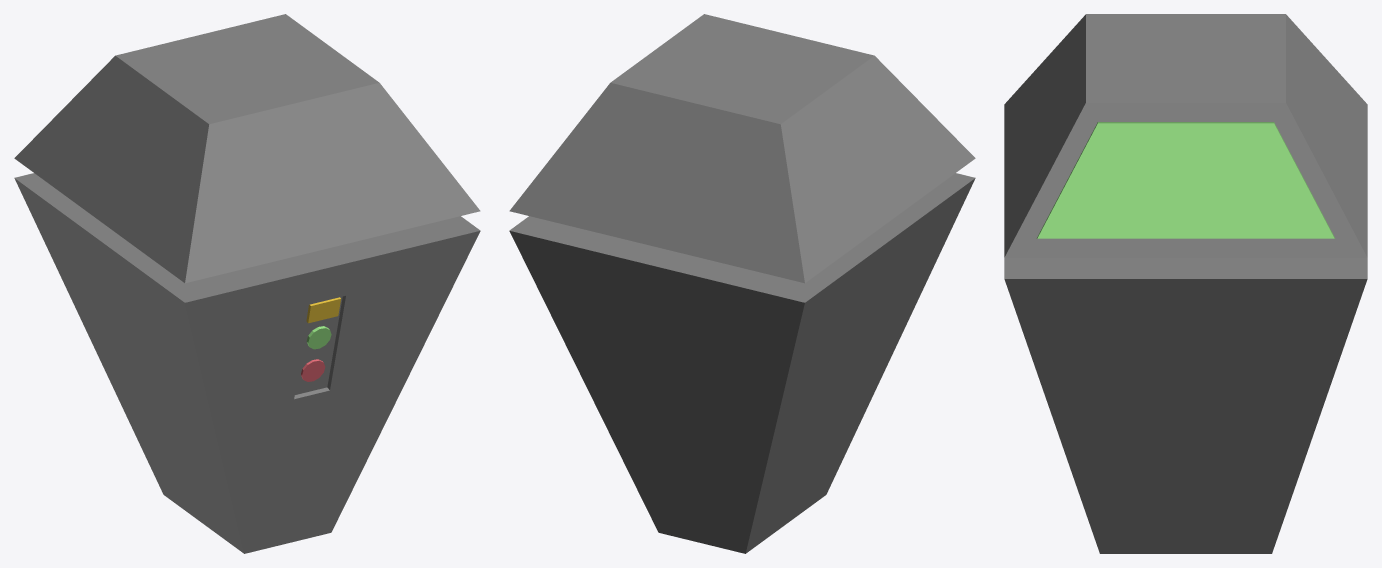
File: character.glb
The picture shows the model from 3 angles, left to right: view 1: azimuth 30°, elevation 25°; view 2: azimuth 150°, elevation 25°; view 3: azimuth 270°, elevation 25°; orthographic projection. The views are drawn at different scales.
Visible parts, largest first — view 1: Cube; view 2: Cube; view 3: Cube.
Part boxes in pixels (left/top/right/bottom): Cube: left=14, top=14, right=480, bottom=553; Cube: left=509, top=14, right=975, bottom=553; Cube: left=1004, top=14, right=1367, bottom=553.
Size of the model in its own units: 0.8001 by 1.15 by 0.8001.
